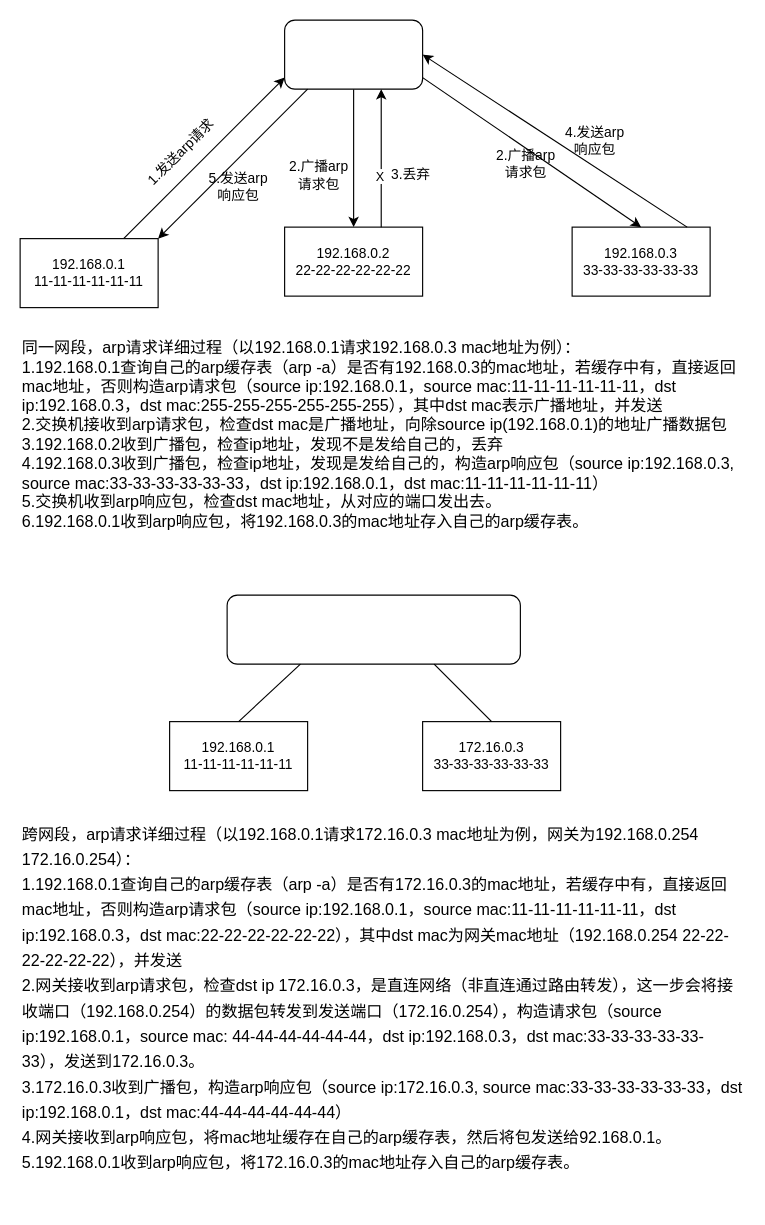
The diagram is 765 pixels wide and 1225 high, and some of its shapes have lost their labels. Each missing label, with the centre of its shape:
Gateway1 192.168.2.254 22-22-22-22-22-22 172.16.0.254 44-44-44-44-44-44: [373,629]
Switch: [353,54]
